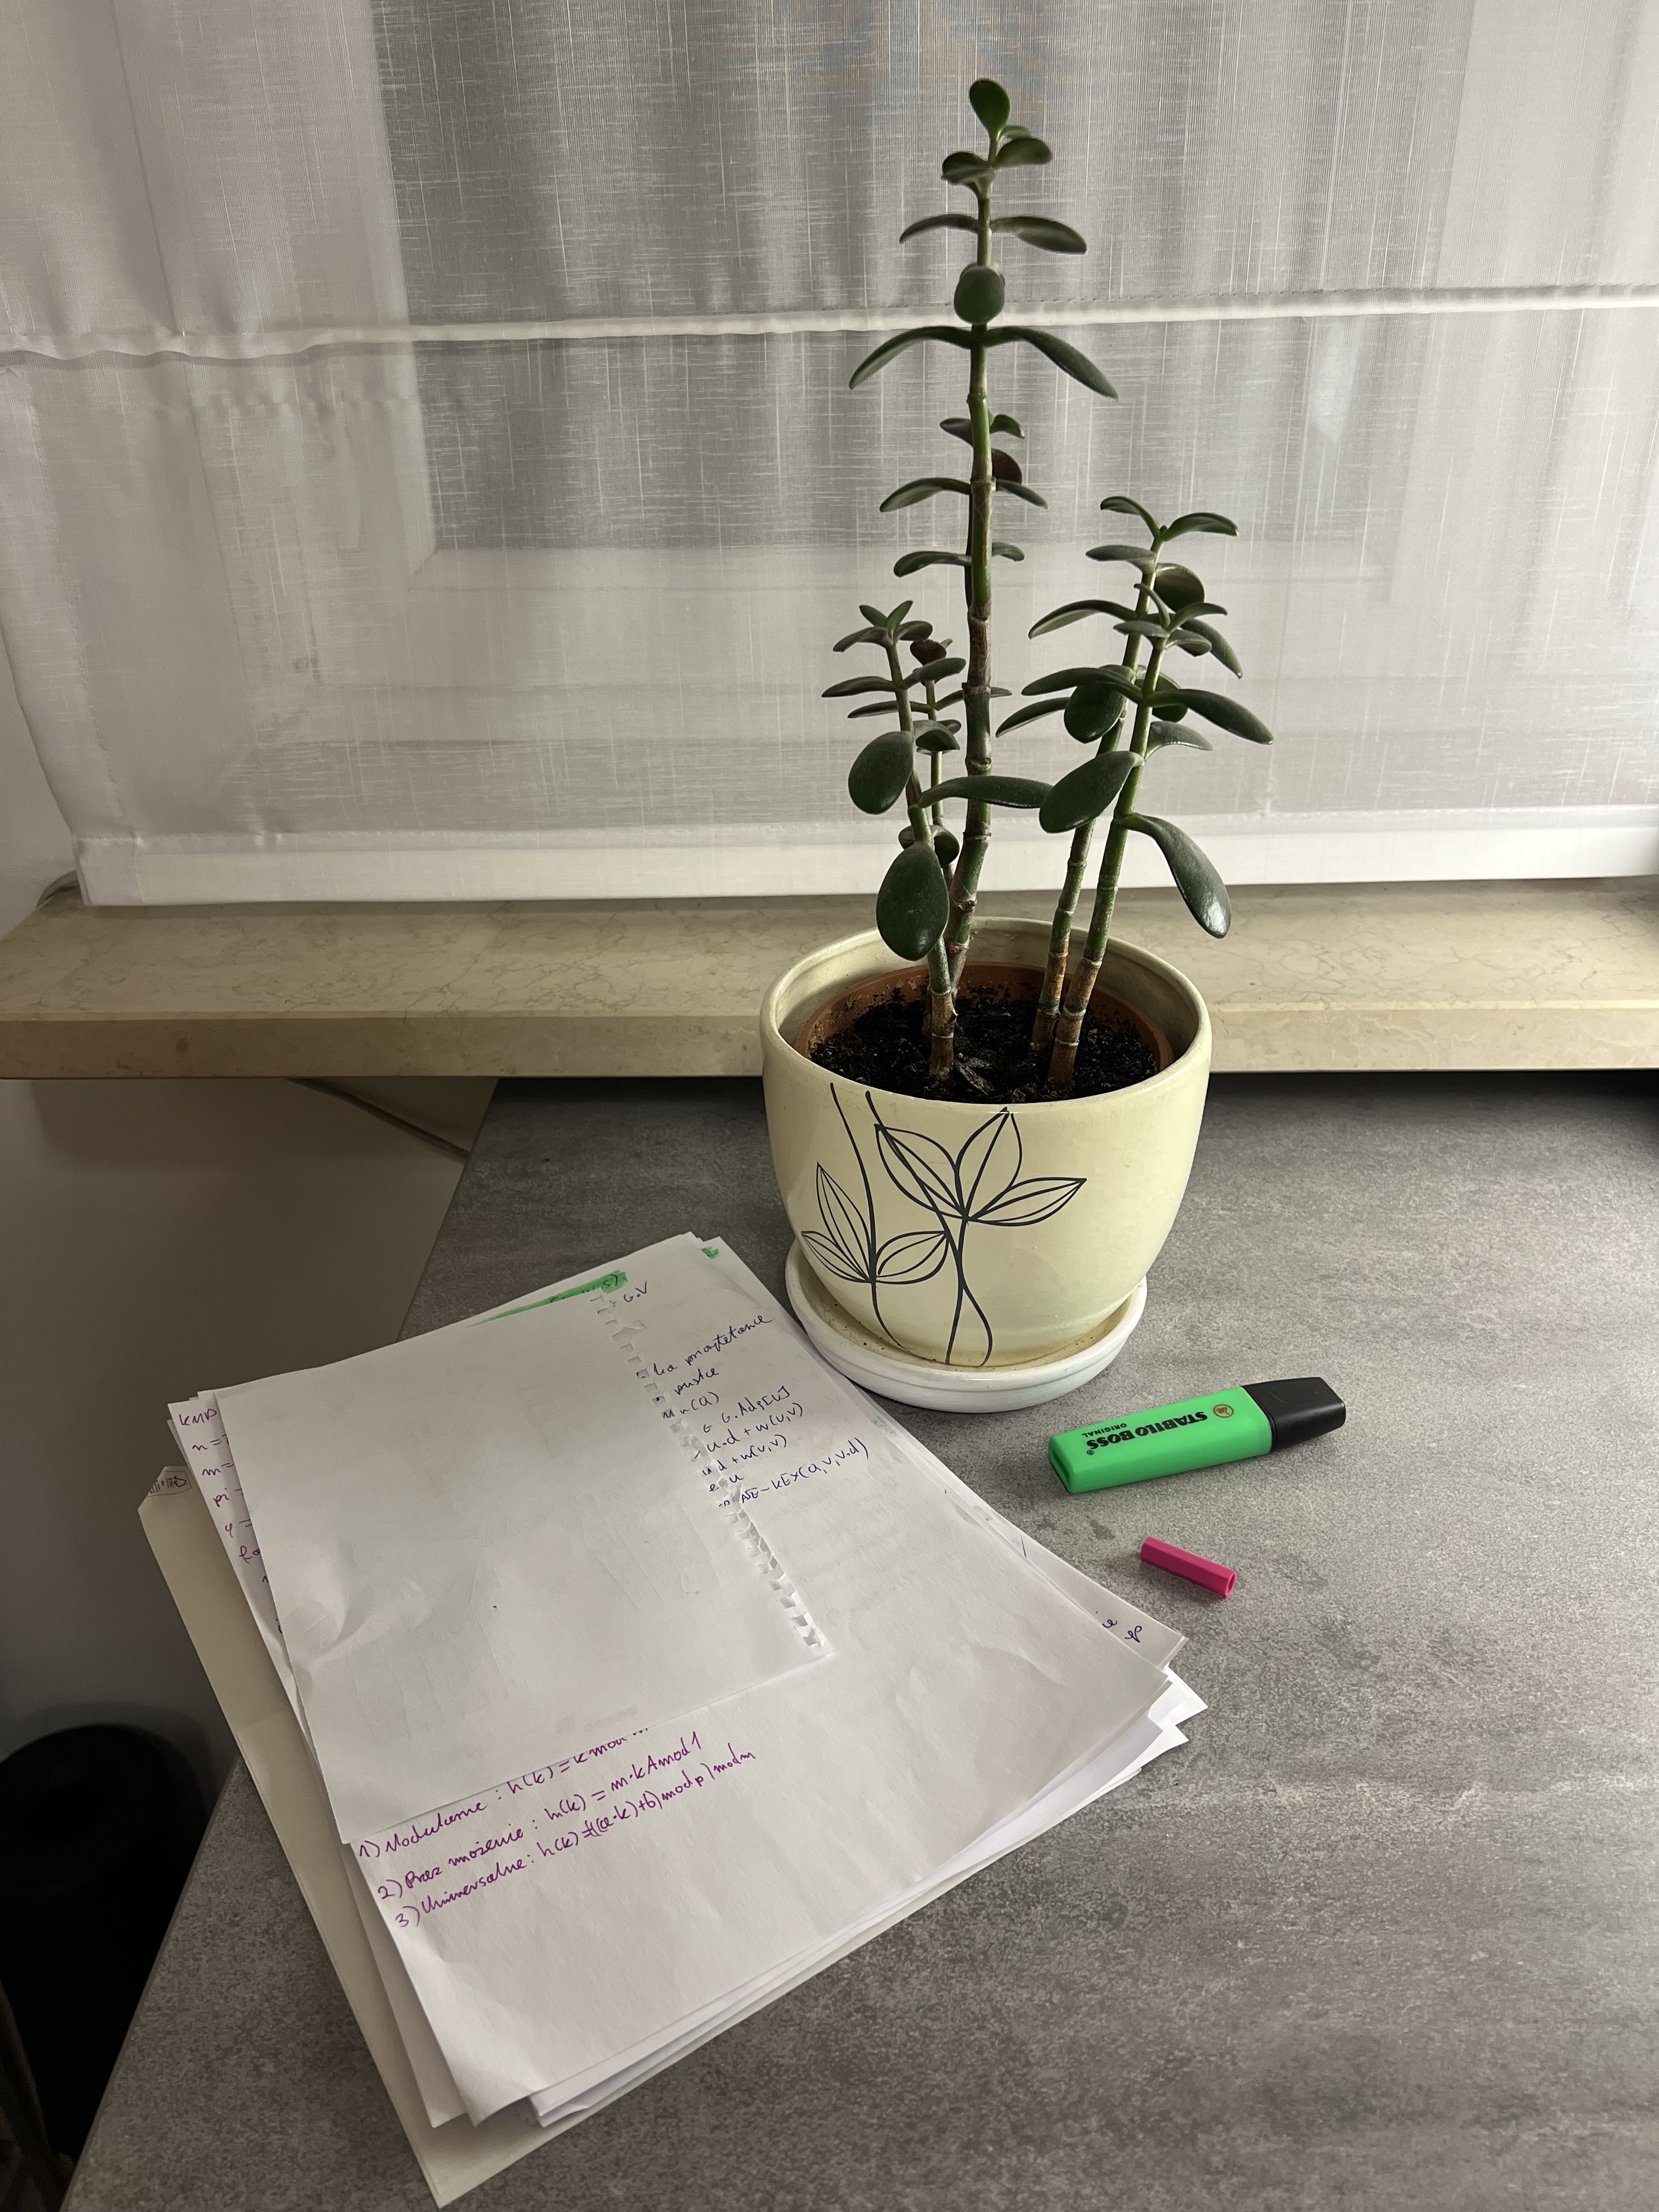BIODEGRADABLE: (660, 71, 1310, 1082)
PAPER: (145, 1231, 1182, 2193)
PLASTIC: (1018, 1428, 1354, 1505), (1136, 1531, 1246, 1597)
